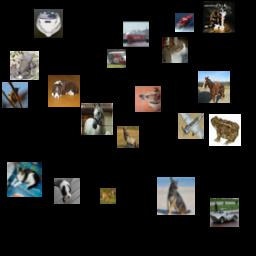airplane: (178, 113, 204, 139)
automobile: (210, 198, 239, 227)
bird: (2, 82, 28, 108)
cat: (7, 162, 42, 197), (203, 1, 235, 33), (162, 37, 188, 63)
deer: (117, 126, 139, 148), (100, 188, 116, 204)
dog: (157, 177, 195, 215), (48, 75, 80, 107), (54, 178, 80, 204), (135, 86, 161, 112)
frog: (209, 114, 241, 146), (10, 51, 39, 80)
ship: (34, 9, 63, 38), (123, 21, 149, 47), (175, 13, 194, 32)
truck: (107, 49, 126, 68)
